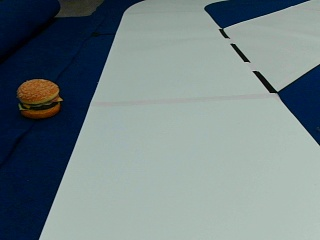burger: (16, 77, 62, 118)
